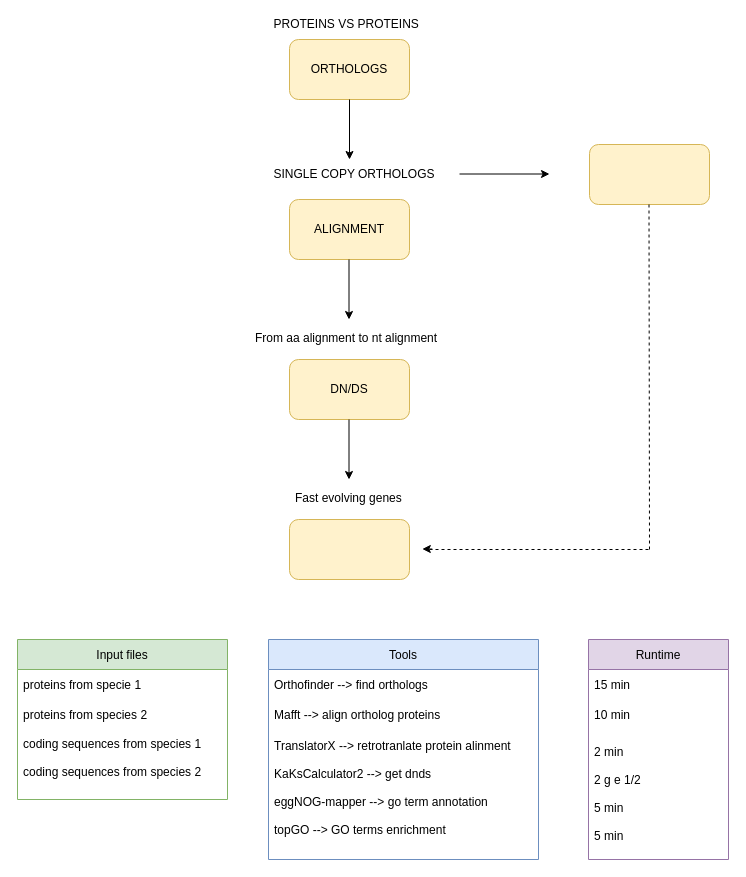
This 746x877 diagram has some shape labels left out. The shapes that lost their labels are listed below. From the top down, each one's centre as x and y in pixels, then its label:
the point at 649,174: GO ANNOTATION
the point at 349,549: GO ENRICHMENT
